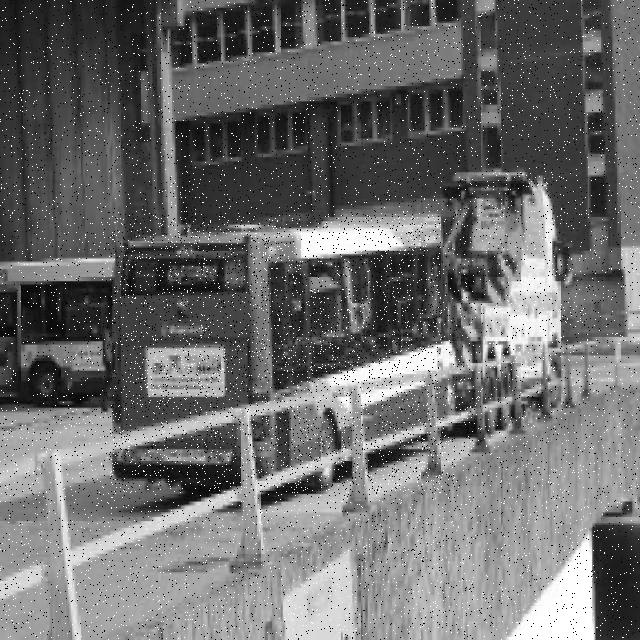Bus: (110, 214, 455, 493)
Tow Truck: (441, 172, 573, 435)
